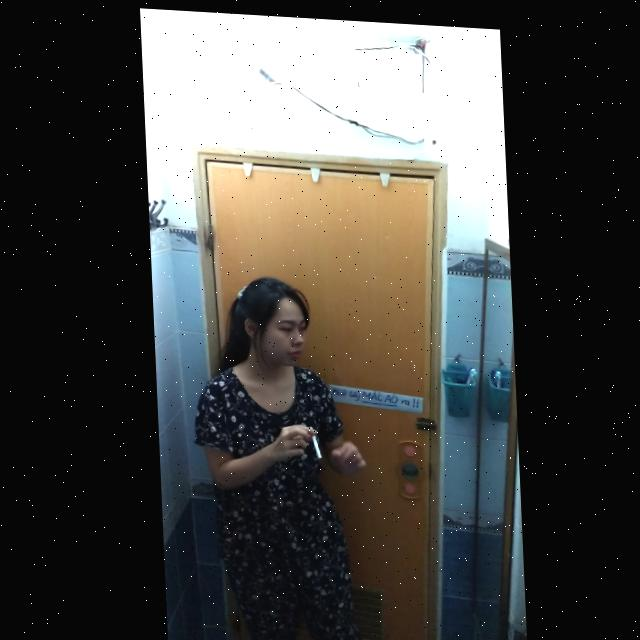cigarette: (306, 424, 318, 456)
